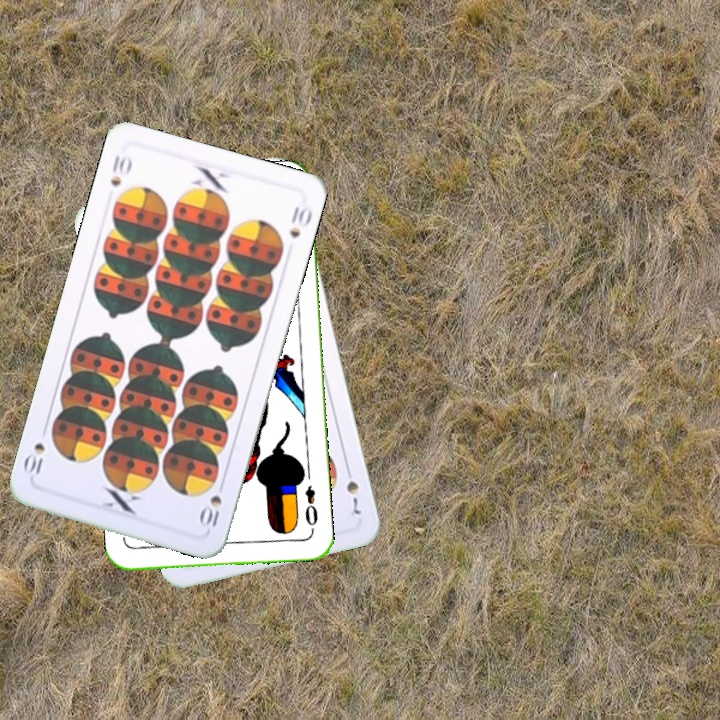EO: (301, 481, 321, 528)
S10: (196, 490, 224, 533), (106, 150, 135, 189)
S7: (342, 462, 363, 518)
